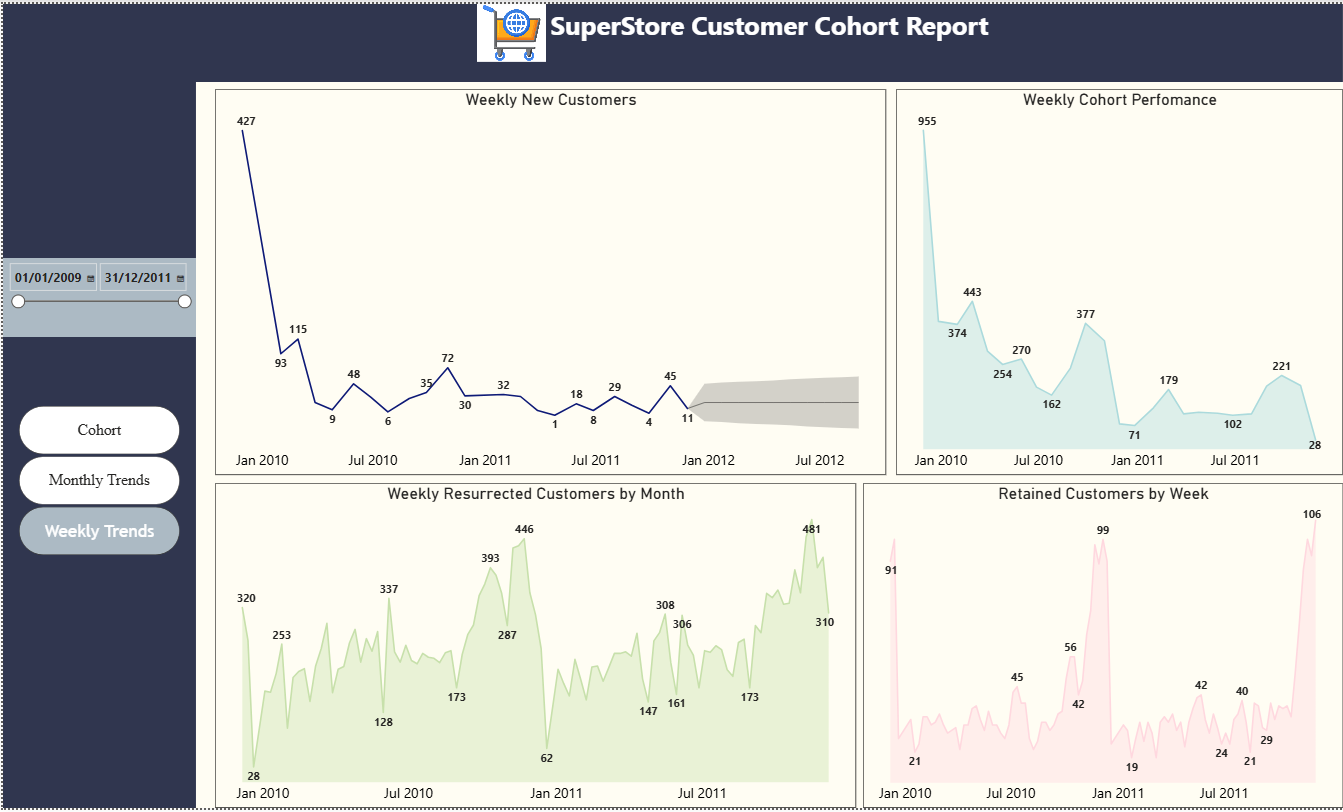

Layout of this report page (visuals, bound fields, positions):
{"tool":"powerbi","page":{"name":"Weekly Trends","canvas":[2500,1500],"ordinal":2},"visuals":[{"type":"shape","box":[0,0,360.1,1500],"z":0},{"type":"shape","box":[335.8,0,2164.2,145.5],"z":1000},{"type":"textbox","box":[360.1,0,2139.9,123.1],"z":2000},{"type":"lineChart","title":"Weekly New Customers","fields":{"Category":["Dim Date.Start of Week"],"Y":["Week measures.Weekly New Customers"]},"box":[395.5,158.6,1251.9,720.1],"z":3000},{"type":"areaChart","title":"Weekly Cohort Perfomance","fields":{"Category":["Dim Date.Start of Week"],"Y":["Week measures.Weekly Cohort Performance"]},"box":[1666,158.6,834,720.1],"z":4000},{"type":"areaChart","title":"Weekly Resurrected Customers by Month","fields":{"Category":["Dim Date.Start of Week"],"Y":["Week measures.Resurrected Customers"]},"box":[395.5,893.7,1195.9,606.3],"z":5000},{"type":"areaChart","title":"Retained Customers by  Week","fields":{"Category":["Dim Date.Start of Week"],"Y":["Week measures.Weekly Retained Customers"]},"box":[1604.5,893.7,895.5,606.3],"z":6000},{"type":"slicer","fields":{"Values":["Dim Date.Date"]},"box":[0,473.9,360.1,145.5],"z":7000},{"type":"pageNavigator","box":[29.9,750,300.4,279.9],"z":8000},{"type":"actionButton","box":[884.3,0,128.7,108.2],"z":9000}]}

Visuals, with their boxes in screenshot pixels (x1, y1, x2, y2), scaled from the page's 2500x1500 canvas onto the 1343x812 screenshot:
shape: locate(0, 0, 193, 811)
shape: locate(180, 0, 1342, 79)
textbox: locate(193, 0, 1342, 67)
"Weekly New Customers" lineChart: locate(212, 86, 885, 476)
"Weekly Cohort Perfomance" areaChart: locate(895, 86, 1342, 476)
"Weekly Resurrected Customers by Month" areaChart: locate(212, 484, 855, 811)
"Retained Customers by  Week" areaChart: locate(862, 484, 1342, 811)
slicer - Dim Date.Date: locate(0, 257, 193, 335)
pageNavigator: locate(16, 406, 177, 558)
actionButton: locate(475, 0, 544, 59)
